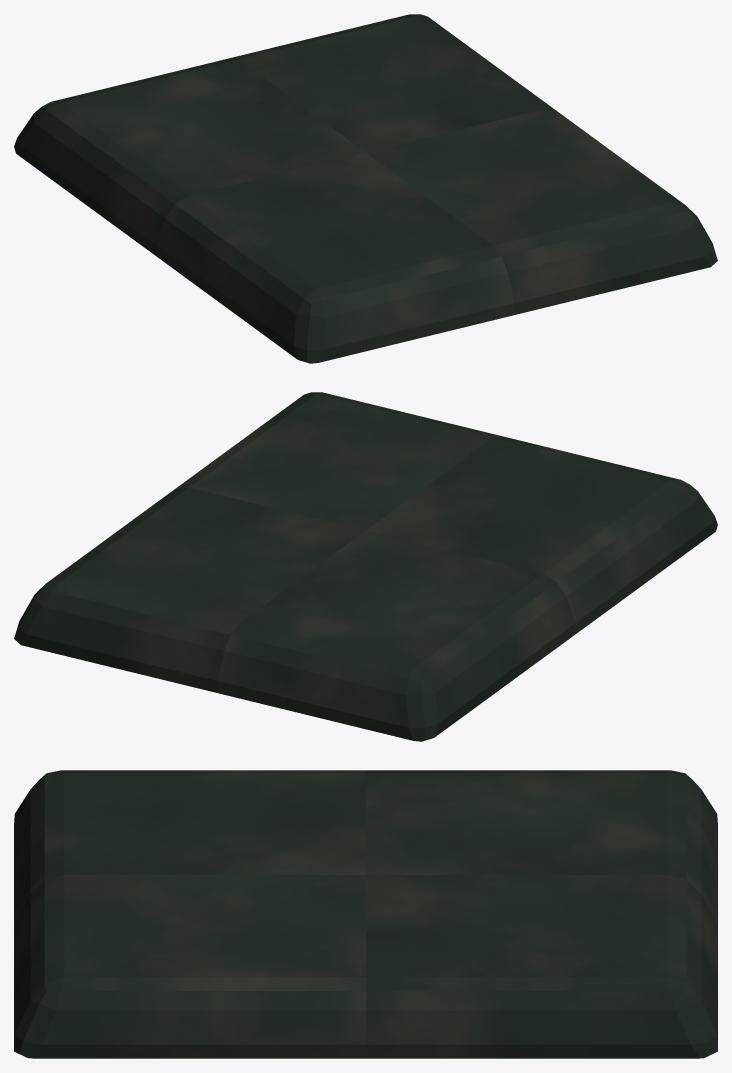
Rendered from Street_BinLid2.obj.
The picture shows the model from 3 angles, top to bottom: view 1: azimuth 30°, elevation 25°; view 2: azimuth 150°, elevation 25°; view 3: azimuth 270°, elevation 25°; orthographic projection. The views are drawn at different scales.
Size of the model in its own units: 0.6019 by 0.08 by 0.7402.
Materials: 1 (1 with a texture image).
